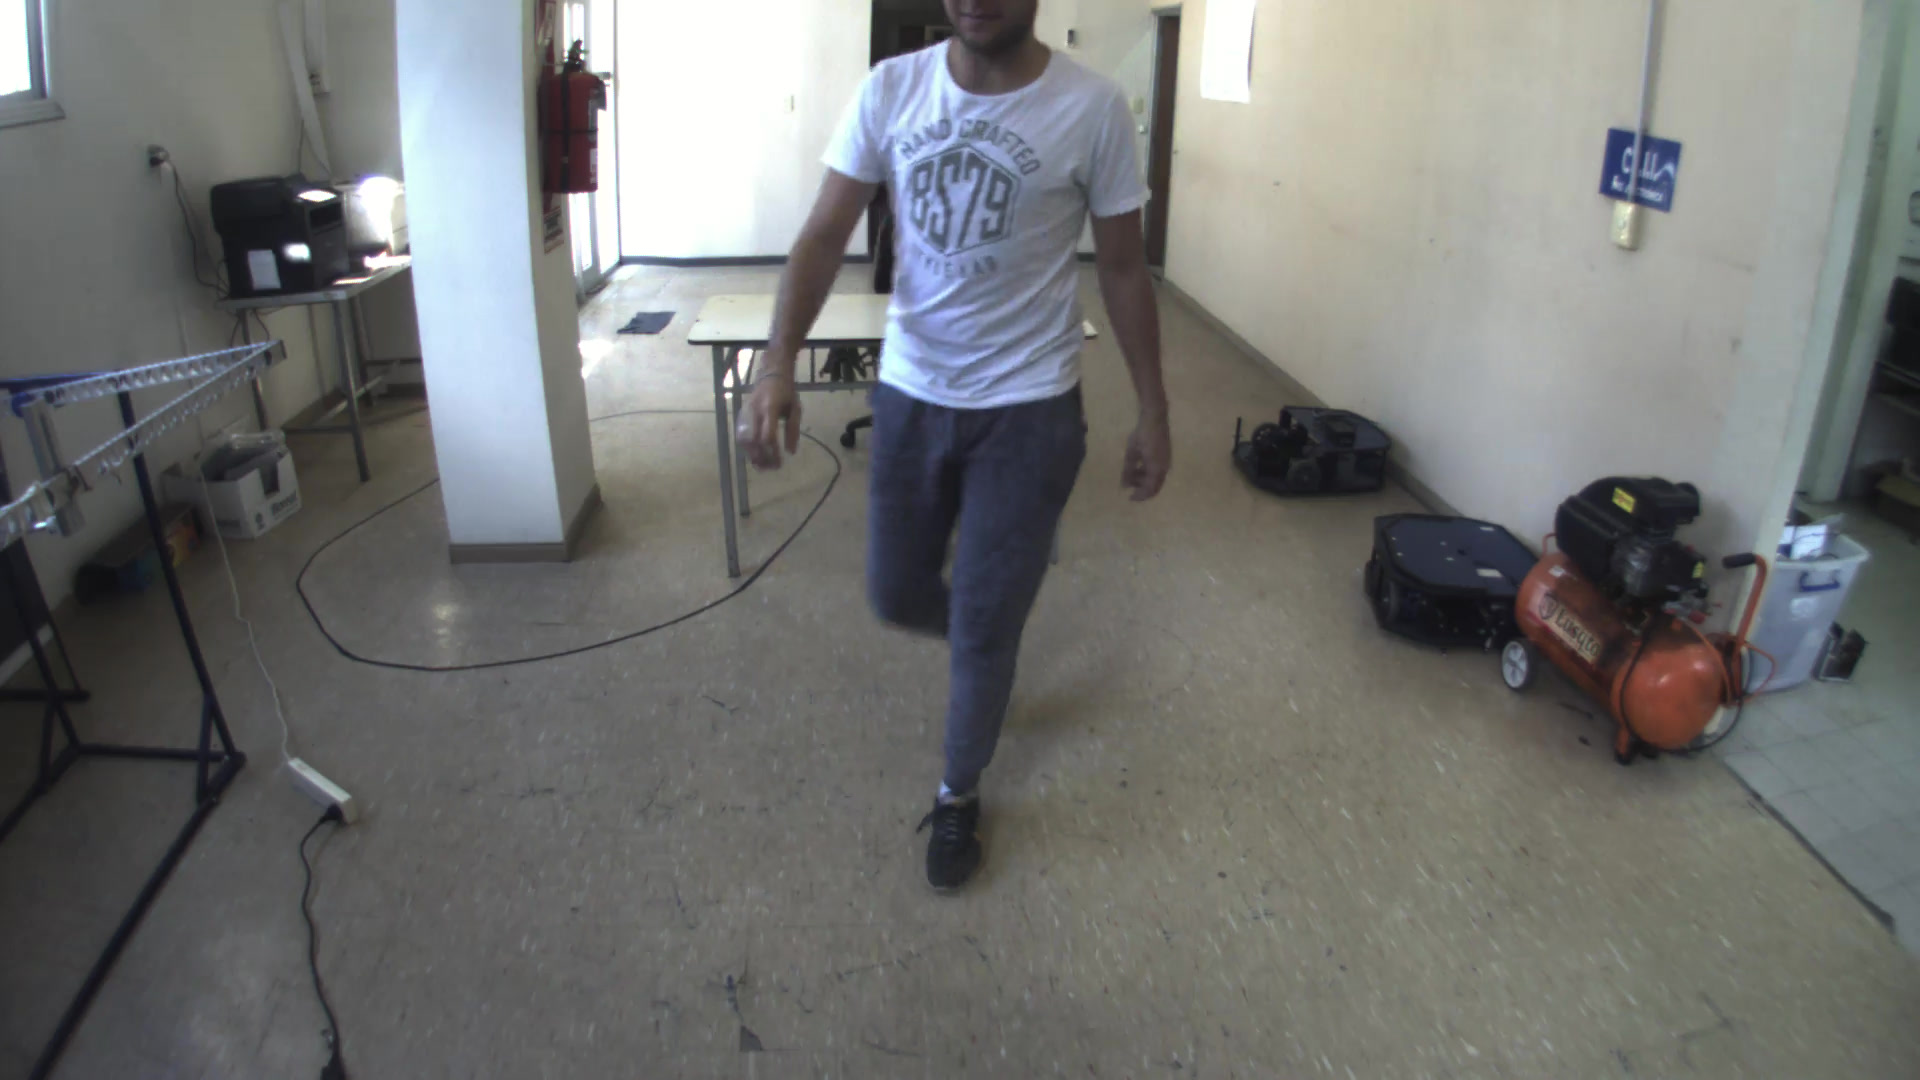hand: (731, 361, 812, 468), (1120, 402, 1176, 506)
